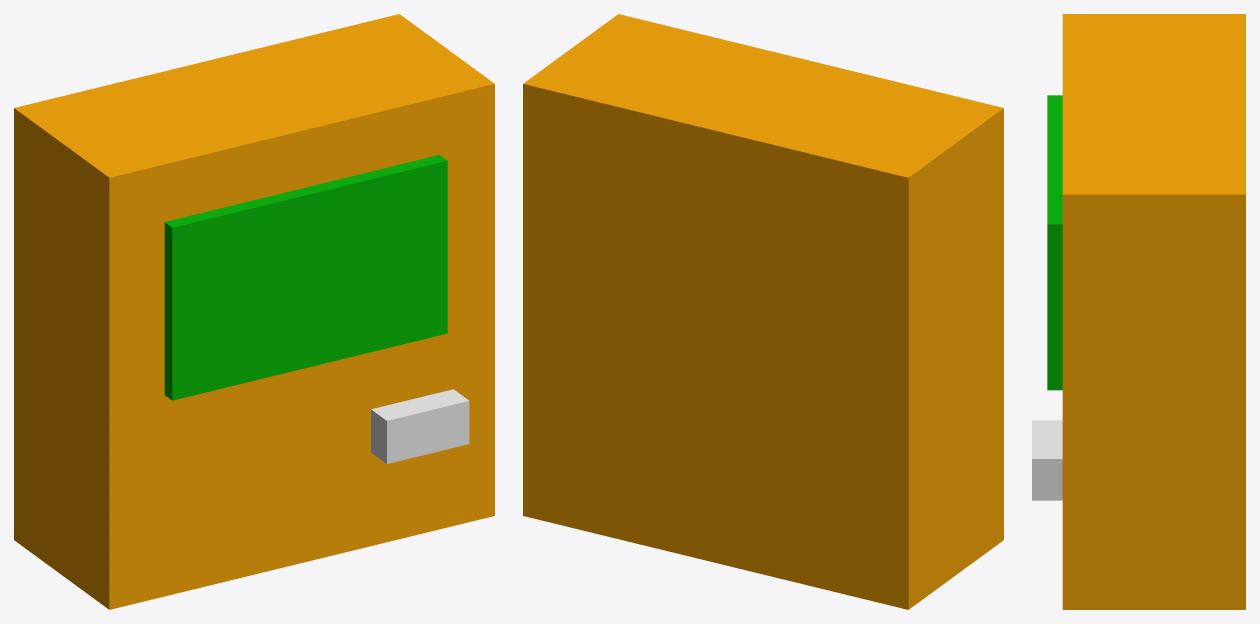
The model's file is aed.glb.
3 renders of one model, left to right at view 1: azimuth 30°, elevation 25°; view 2: azimuth 150°, elevation 25°; view 3: azimuth 270°, elevation 25°, orthographic. The views are drawn at different scales.
Visible parts, largest first — view 1: body, screen, button; view 2: body; view 3: body, screen, button.
Part boxes in pixels (x1=…): body: x1=14, y1=14, x2=494, y2=609; screen: x1=164, y1=155, x2=447, y2=400; button: x1=371, y1=389, x2=469, y2=463; body: x1=523, y1=14, x2=1003, y2=609; body: x1=1062, y1=14, x2=1245, y2=609; screen: x1=1047, y1=95, x2=1062, y2=390; button: x1=1032, y1=420, x2=1062, y2=500.
Size of the model in its own units: 0.28 by 0.3 by 0.14.
